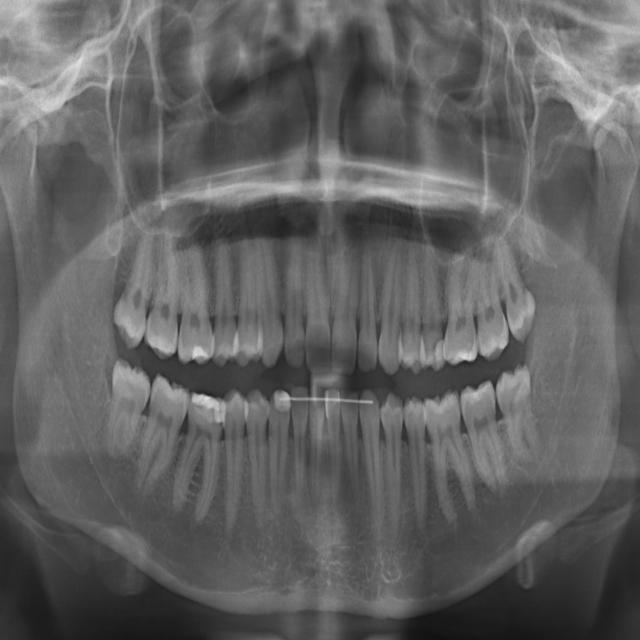CompositeResinRestoration: (187, 381, 224, 432), (458, 330, 477, 370)
DentalCaries: (192, 409, 228, 493), (447, 288, 479, 378)
ImpactedTooth: (100, 351, 158, 448), (492, 348, 538, 464)
